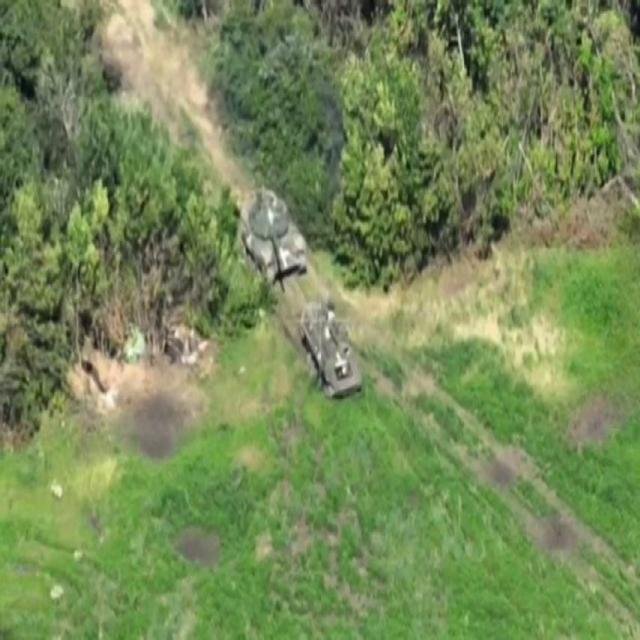AIFV: (300, 299, 365, 404)
MBT: (239, 185, 311, 297)
